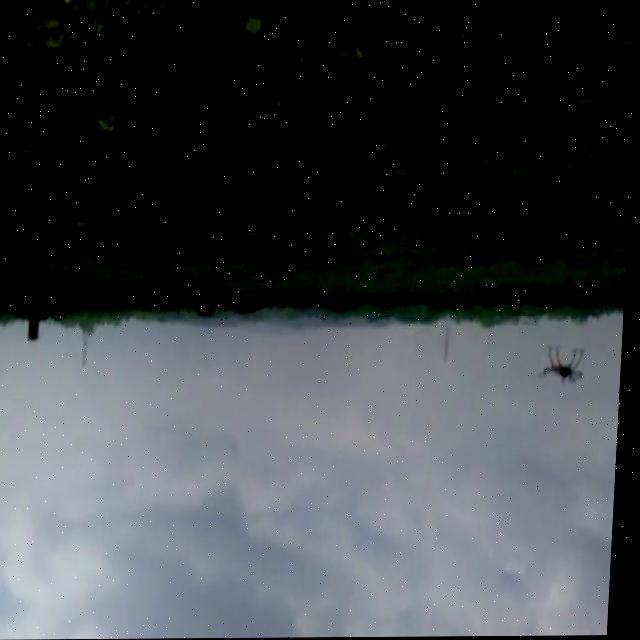drone: (539, 349, 591, 388)
